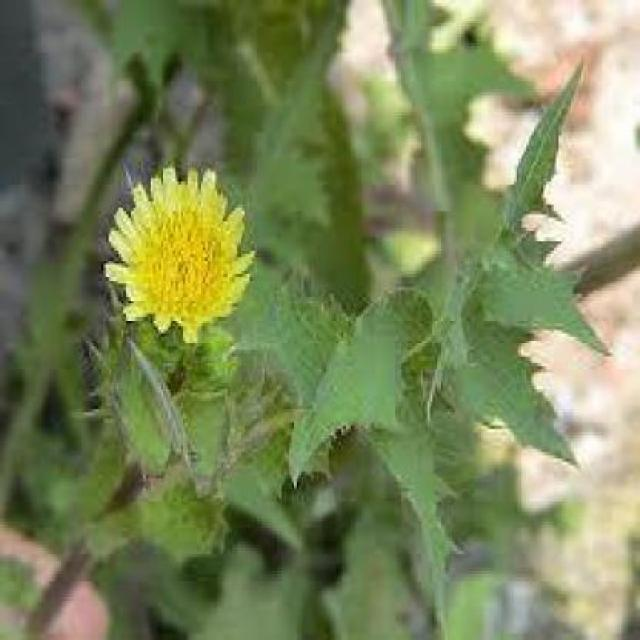flower: (104, 165, 262, 343)
